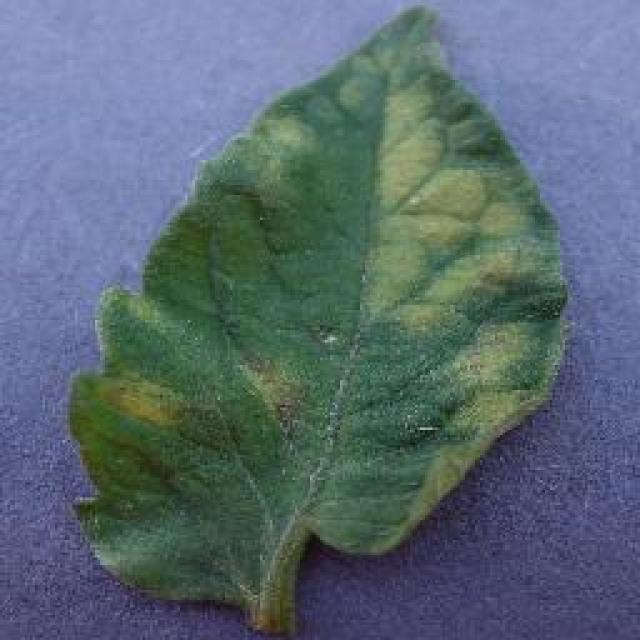Tomato___Leaf_Mold: (70, 8, 565, 628)
